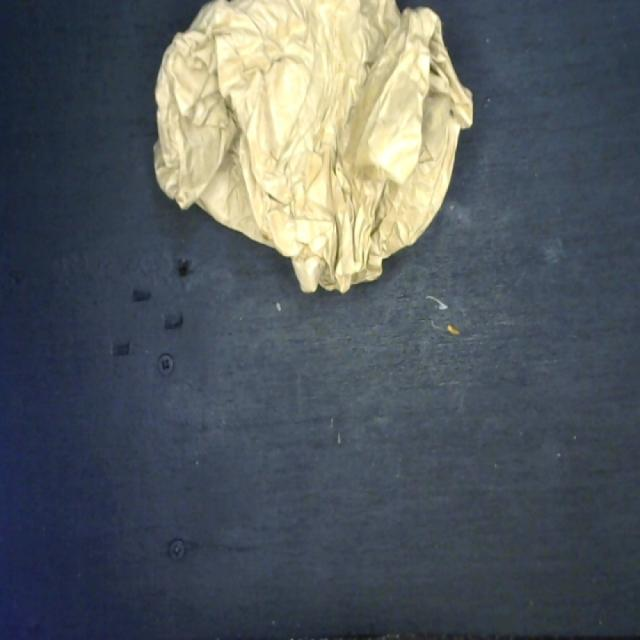biodegradable: (148, 0, 476, 302)
